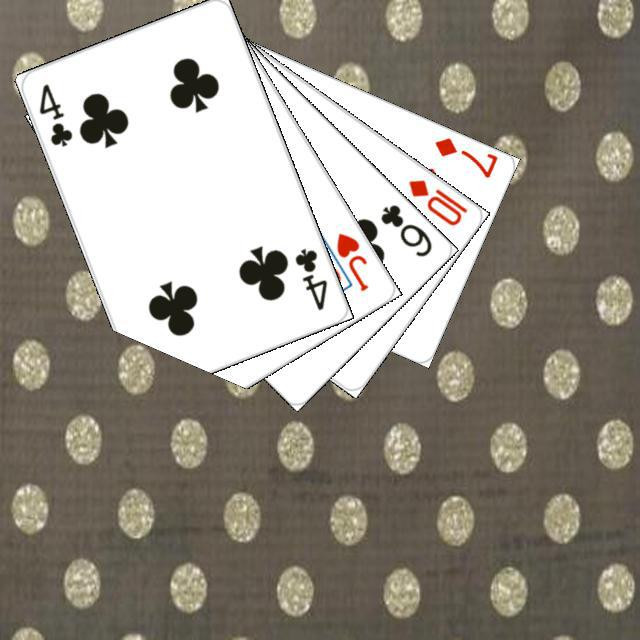10d: (403, 174, 470, 228)
4c: (34, 78, 75, 148), (290, 243, 329, 312)
6c: (375, 199, 434, 259)
7d: (429, 132, 499, 180)
Jh: (331, 227, 371, 293)
